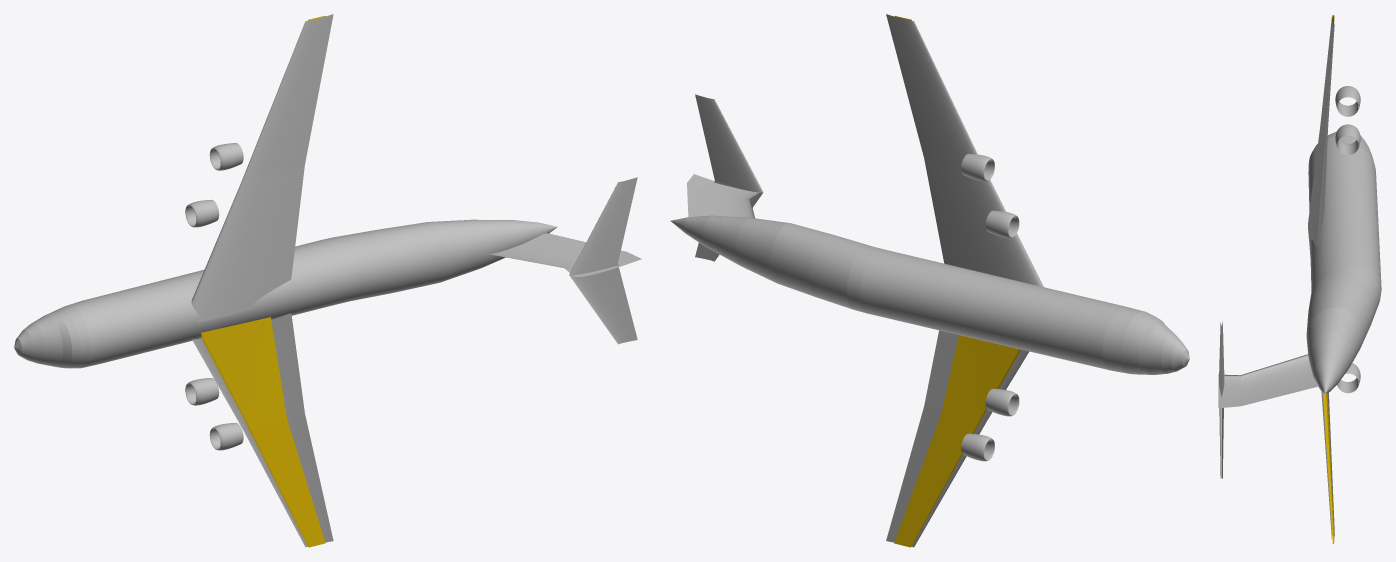
The model's file is Lockheed_C-5a.gltf.
3 views of the same model, side by side, from view 1: azimuth 30°, elevation 25°; view 2: azimuth 150°, elevation 25°; view 3: azimuth 270°, elevation 25° (orthographic).
Parts seen in each view (by area): view 1: Renderer Node; view 2: Renderer Node; view 3: Renderer Node.
Part boxes in pixels (x1,y1,x2,y2): Renderer Node: (14,14,641,547); Renderer Node: (670,14,1189,547); Renderer Node: (1218,15,1381,543).
Bounding box in the file's own units: 73.94 × 66.3 × 18.83.
